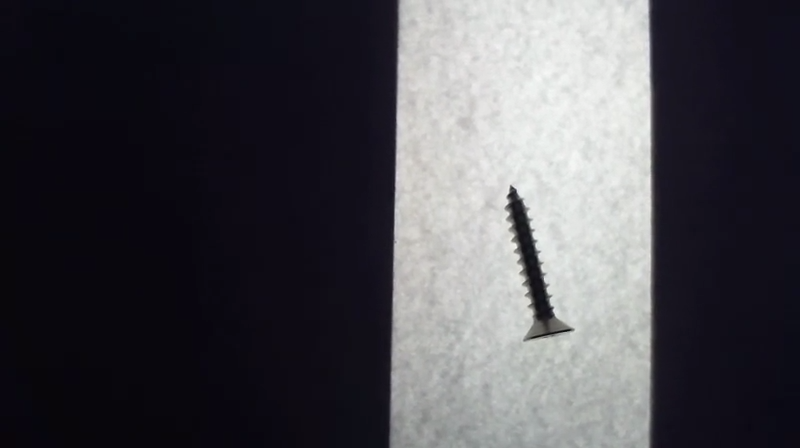S001: (503, 182, 578, 346)
